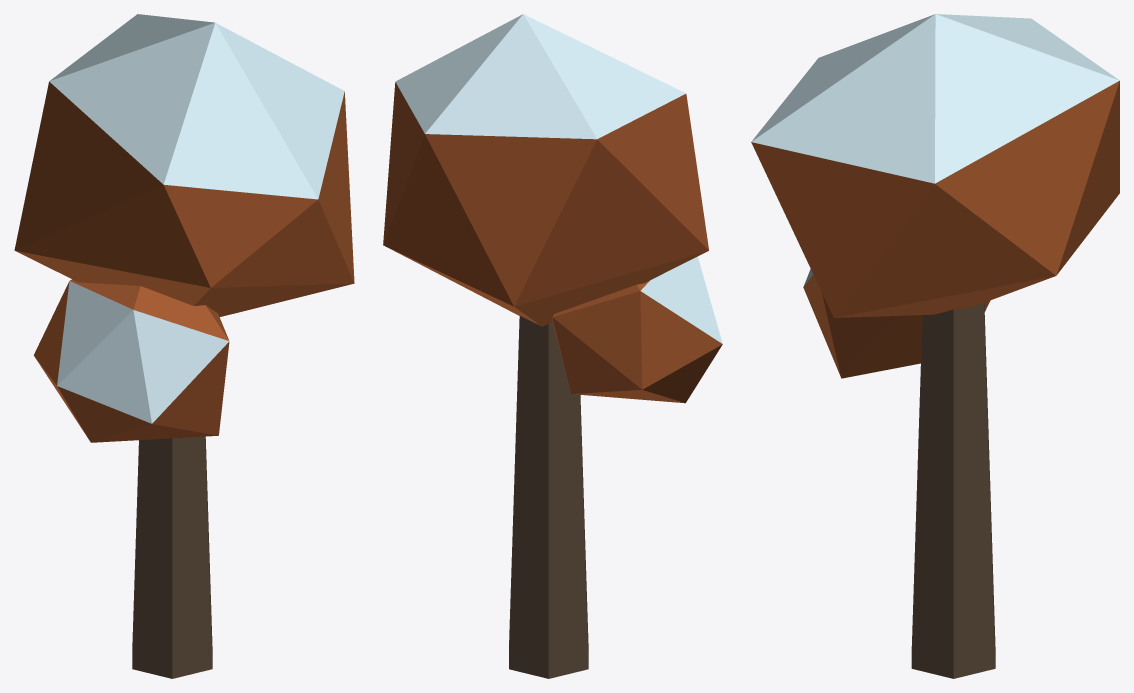
Rendered from SM_Env_Generic_Tree_05_Snow.fbx.
3 renders of one model, left to right at view 1: azimuth 30°, elevation 25°; view 2: azimuth 150°, elevation 25°; view 3: azimuth 270°, elevation 25°, orthographic. The views are drawn at different scales.
Visible parts, largest first — view 1: SM_Env_Generic_Tree_05_Snow; view 2: SM_Env_Generic_Tree_05_Snow; view 3: SM_Env_Generic_Tree_05_Snow.
Boxes of the visible parts, bbox=[...] form: SM_Env_Generic_Tree_05_Snow: bbox=[14, 14, 354, 678]; SM_Env_Generic_Tree_05_Snow: bbox=[383, 14, 722, 678]; SM_Env_Generic_Tree_05_Snow: bbox=[751, 14, 1119, 678].
Bounding box in the file's own units: 51.53 × 96.74 × 48.85.
Materials: 1 (1 with a texture image).
